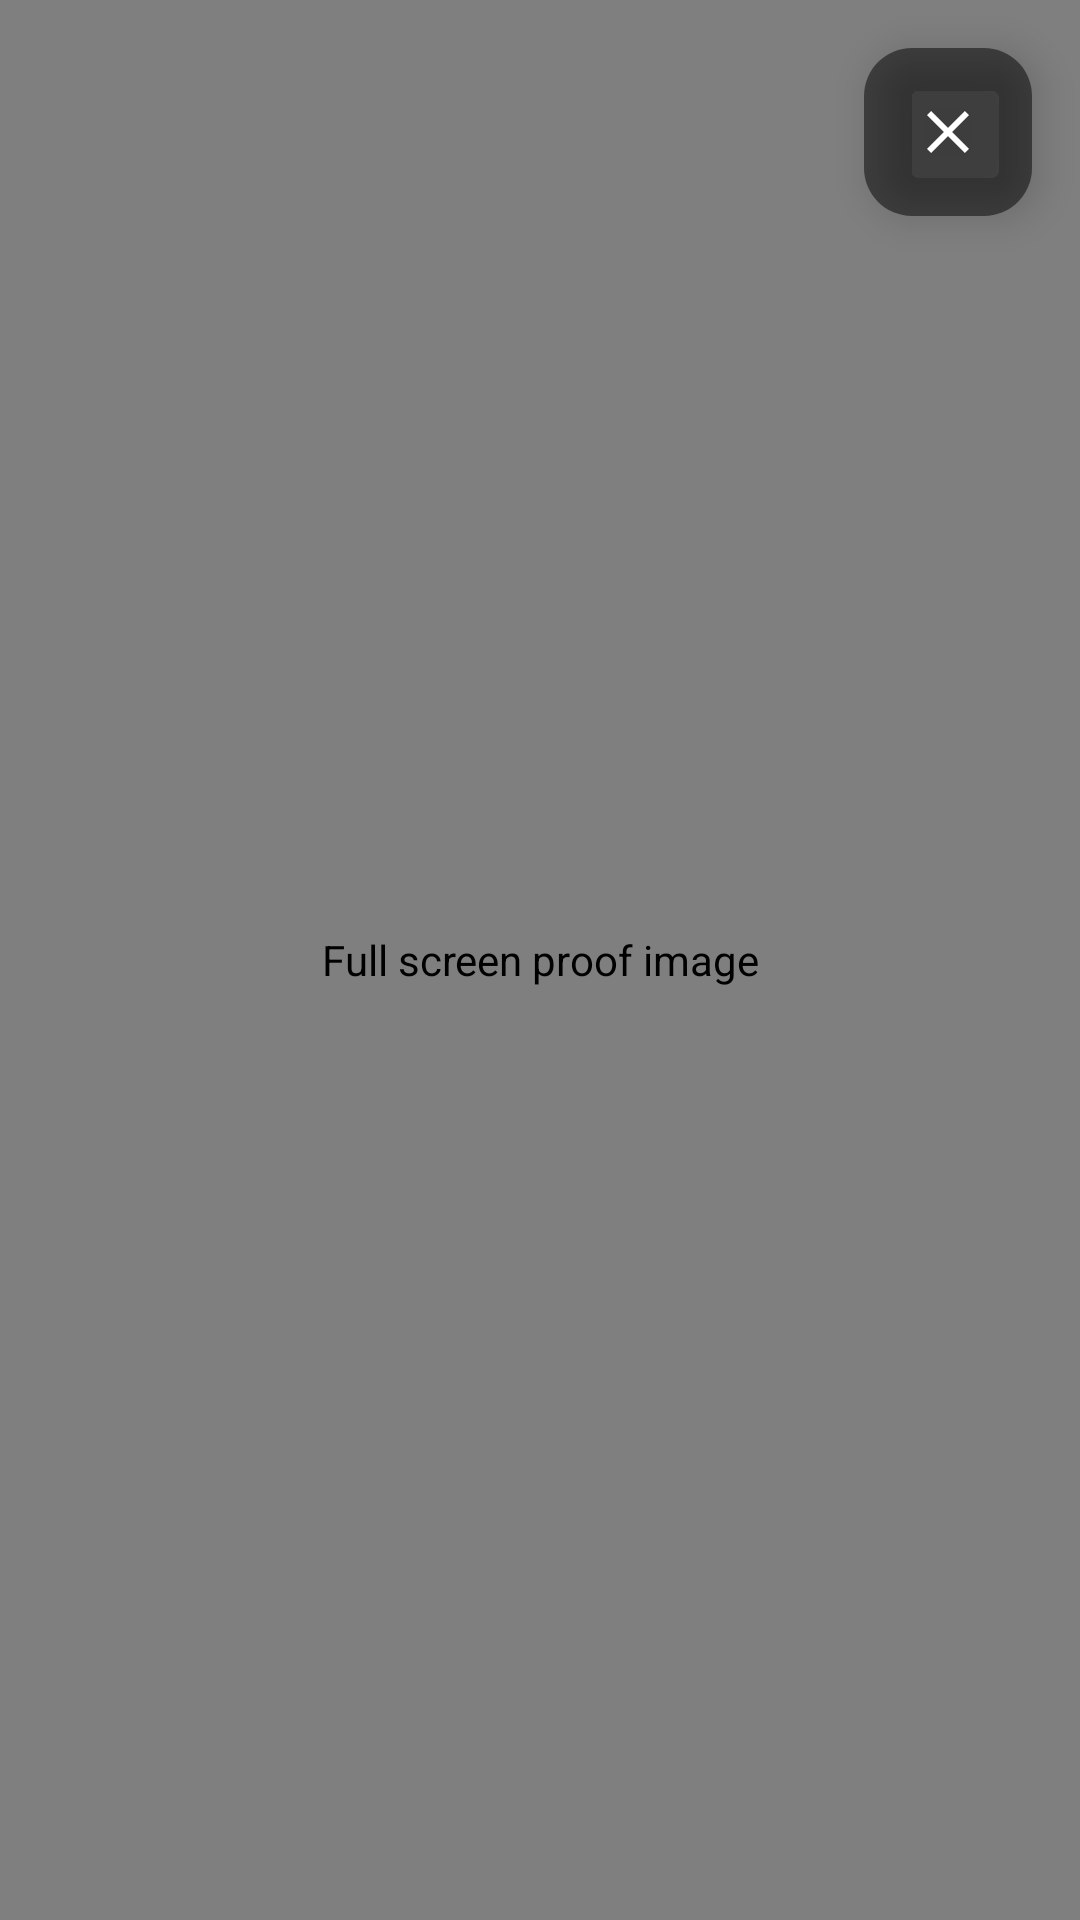

Named icons in this screenshot (1080 x 1920) and their centers, (x,y):
close: (948,132)
